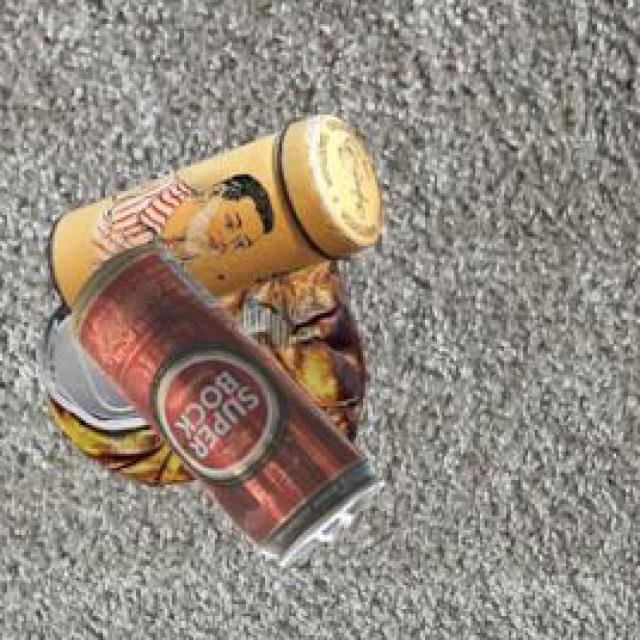logam: (75, 250, 388, 570), (44, 264, 367, 488), (51, 118, 386, 316)
